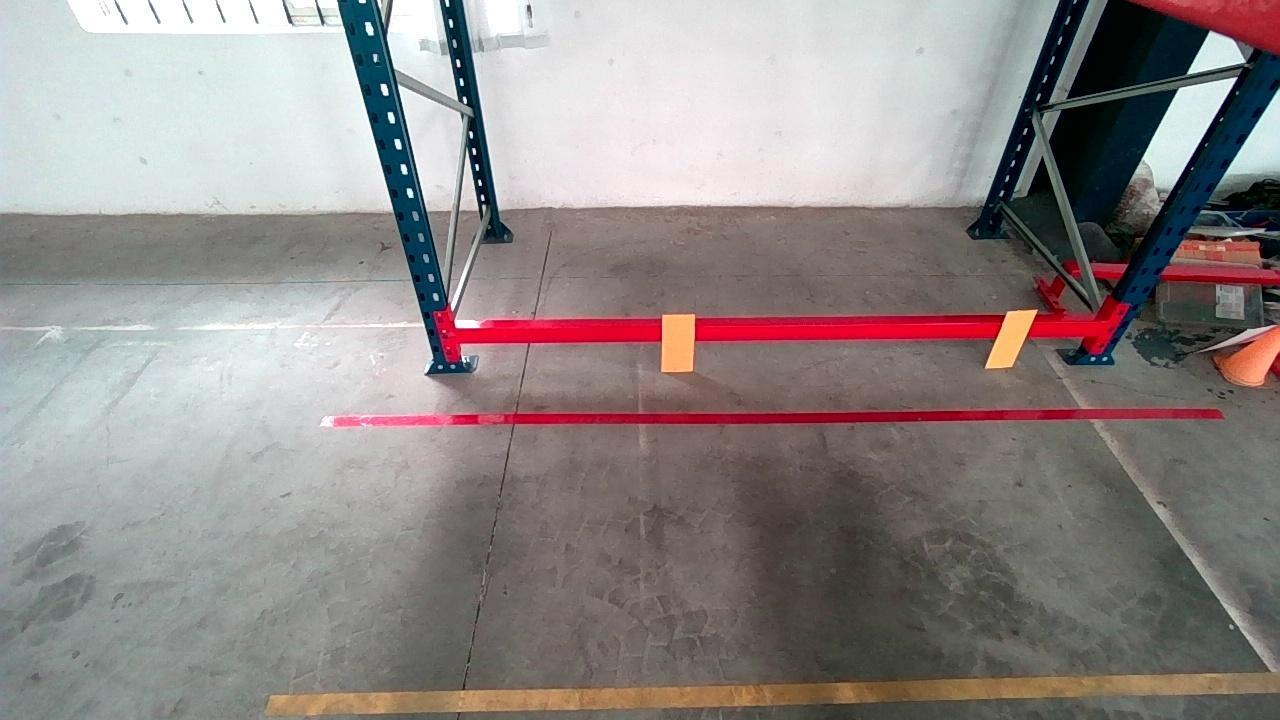h_rack: (452, 312, 1105, 348)
orange_strip: (986, 309, 1040, 367), (662, 312, 695, 370)
red_line: (336, 402, 1192, 425)
yellow_line: (276, 669, 1280, 720)
